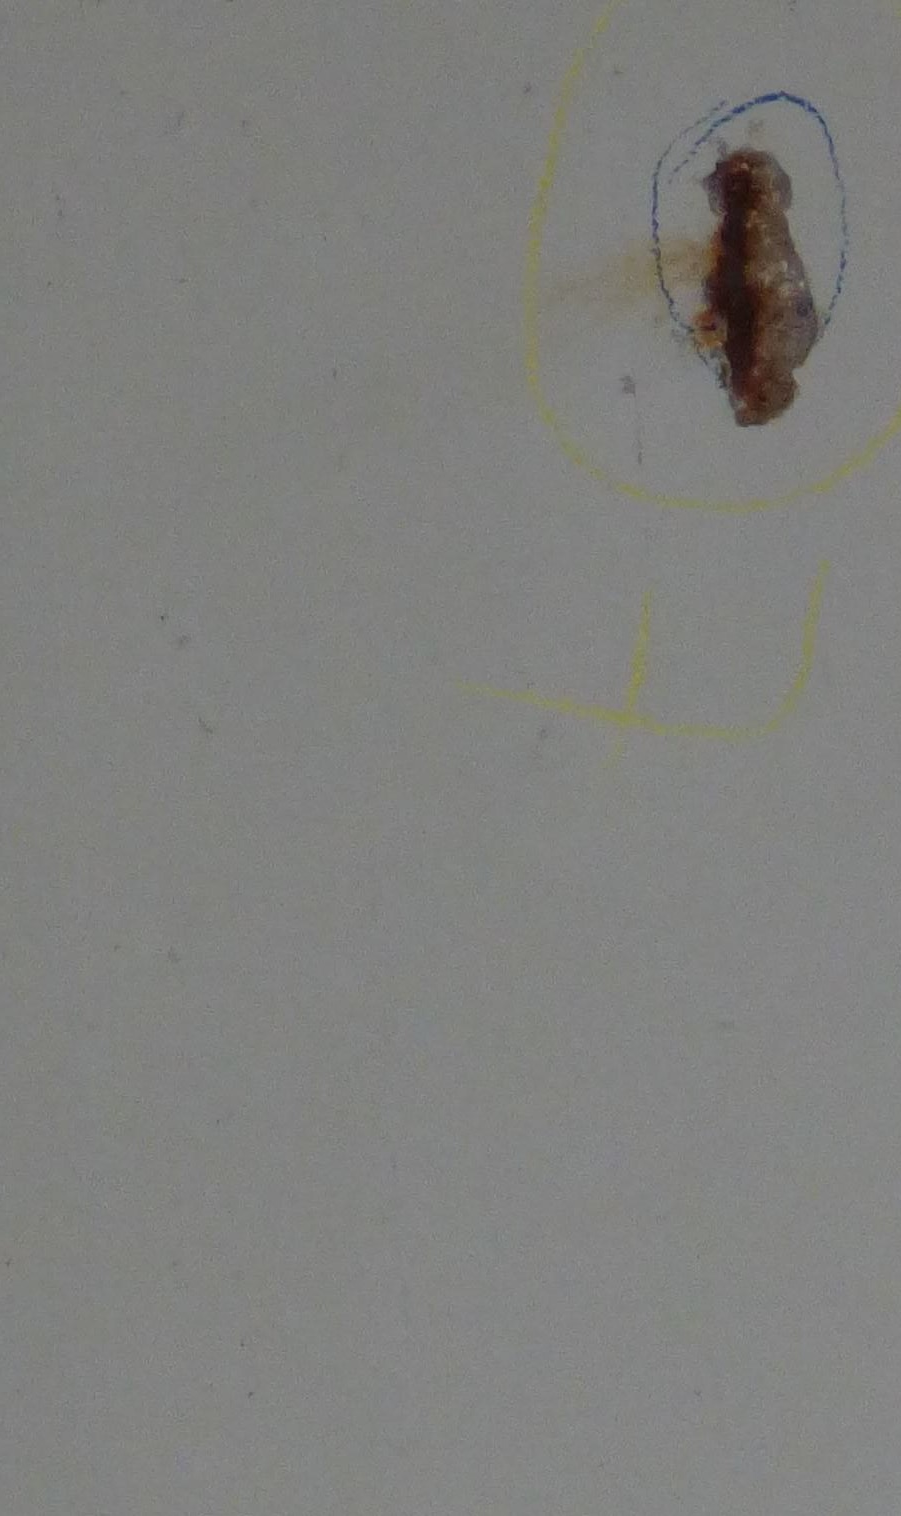Exposed reinforcement: (723, 178, 756, 376)
Spalling: (689, 143, 819, 429)
